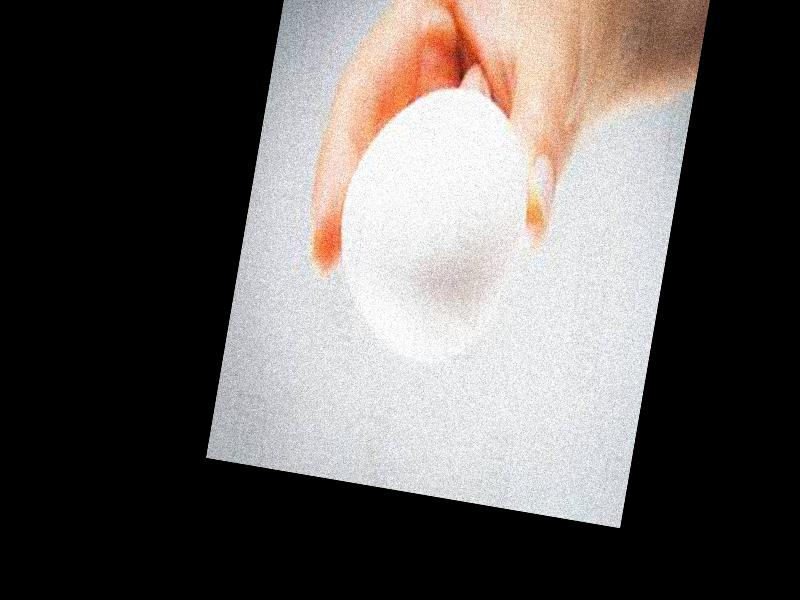Eggs: (319, 83, 543, 370)
